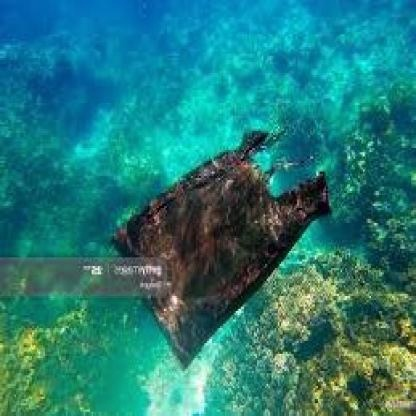pbag: (109, 129, 333, 375)
